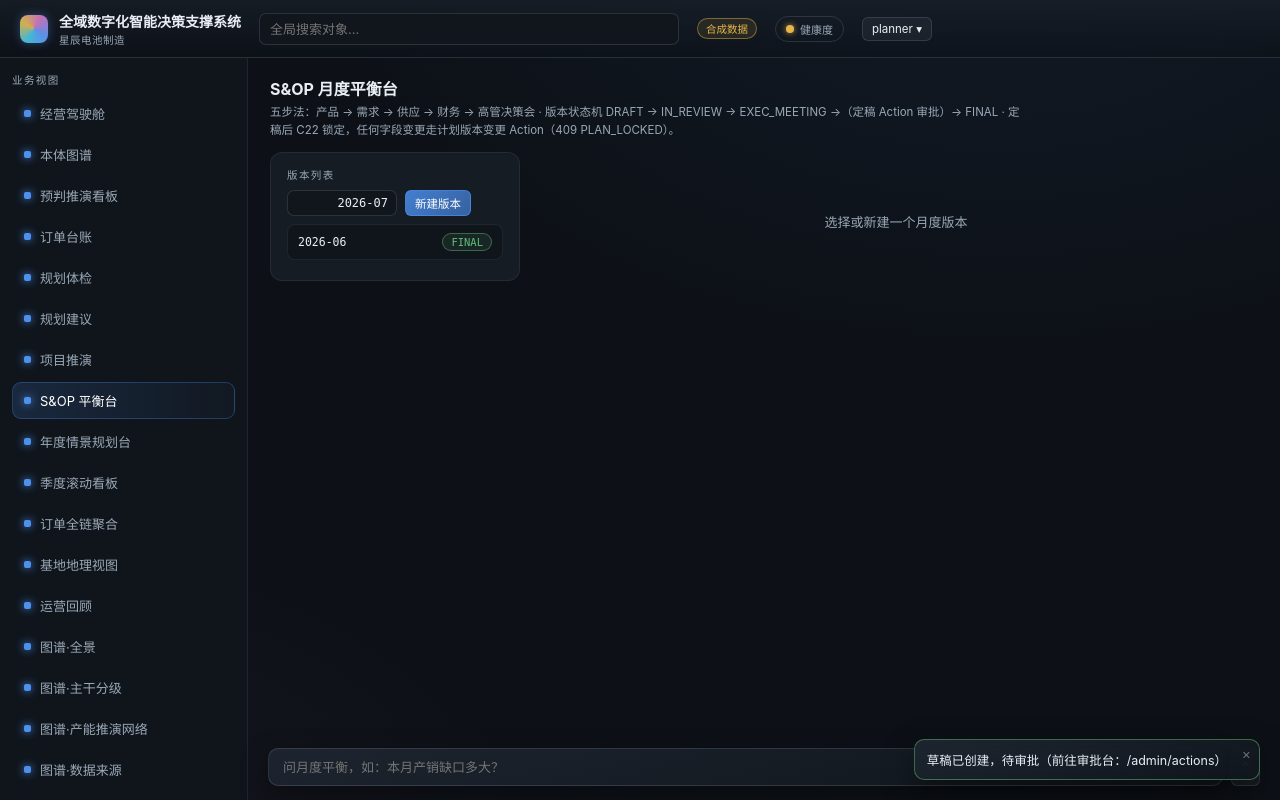
Test case: F17 · S&OP 月度平衡台（sop-balance） › FINAL 种子版本：锁定横幅 + 改字段 409 PLAN_LOCKED 兜底 + 发起变更（actionType=计划版本变更）
Later steps or results of the test are not shown.
Expected: the text with test id "sop-status-2026-06" reads "FINAL", [451,236,483,248]
Click the button with test id "sop-version-2026-06" at [395, 242], box [287,224,503,260]
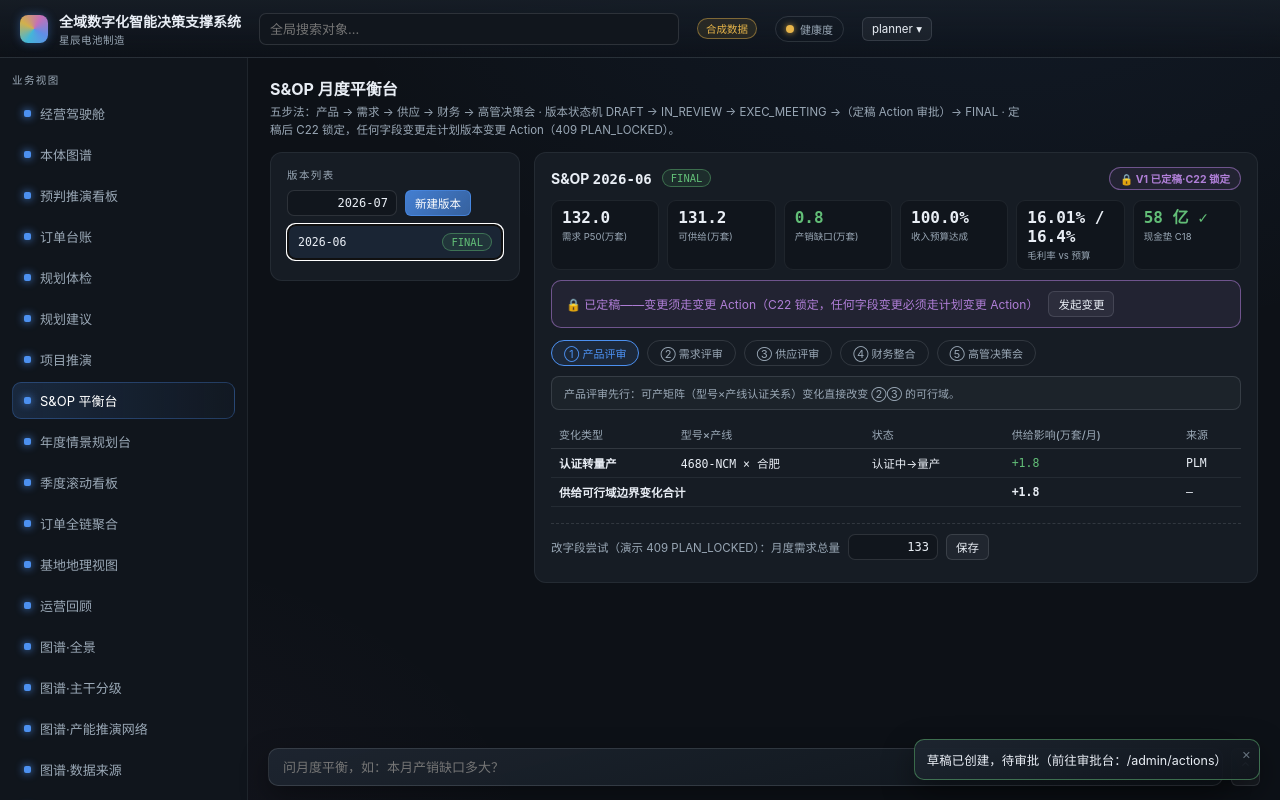
Expected: the element with test id "sop-locked-banner" shows "已定稿——变更须走变更 Action", [584,297,1038,312]
Expected: the text with test id "sop-version-badge" shows "V1 已定稿·C22 锁定", [1120,173,1230,186]
# 改字段尝试 → 后端 409 PLAN_LOCKED → toast 透出 + 前端兜底同横幅
Click the button with test id "sop-lock-demo-save" at [967, 547], box [946,534,989,560]
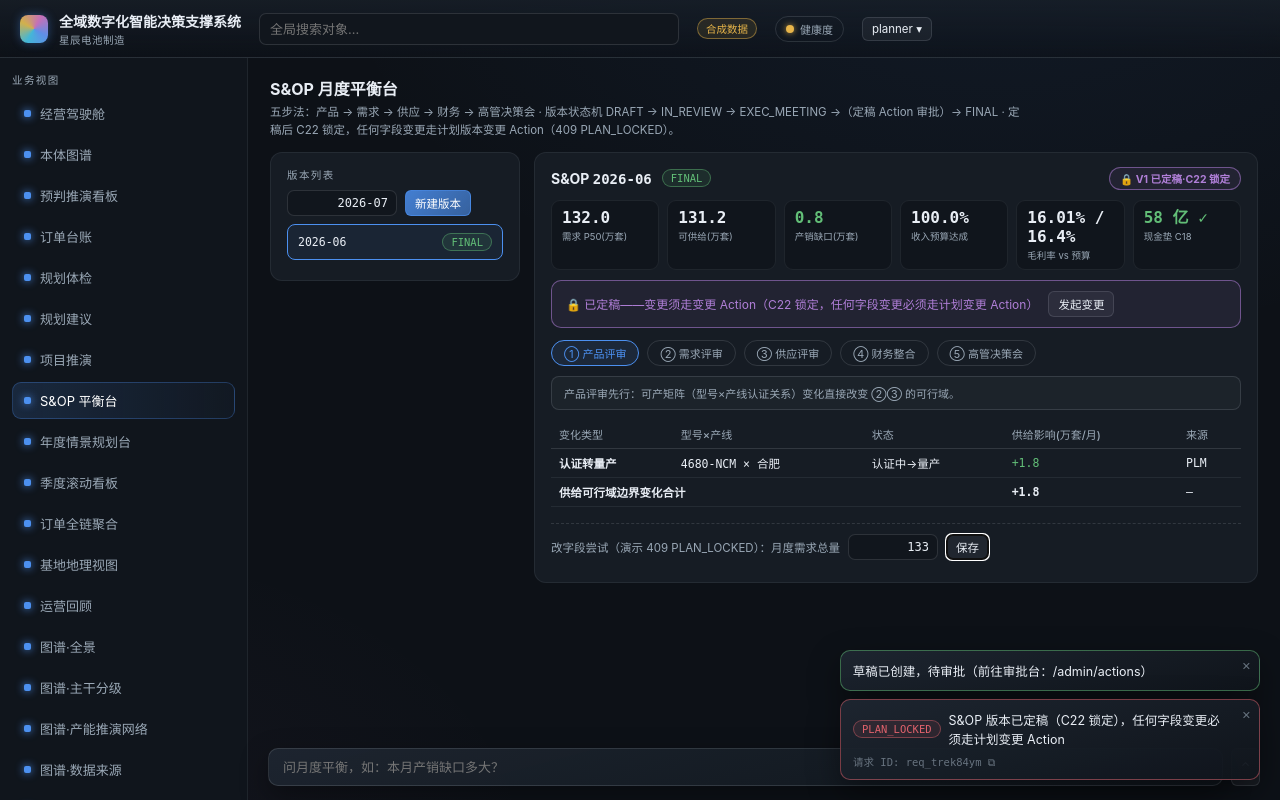
Expected: the element with test id "sop-locked-banner" is shown, [551,280,1241,328]
Expected: the text "S&OP 版本已定稿（C22 锁定），任何字段变更必须走计划变更 Action" is shown, [948,710,1227,748]
